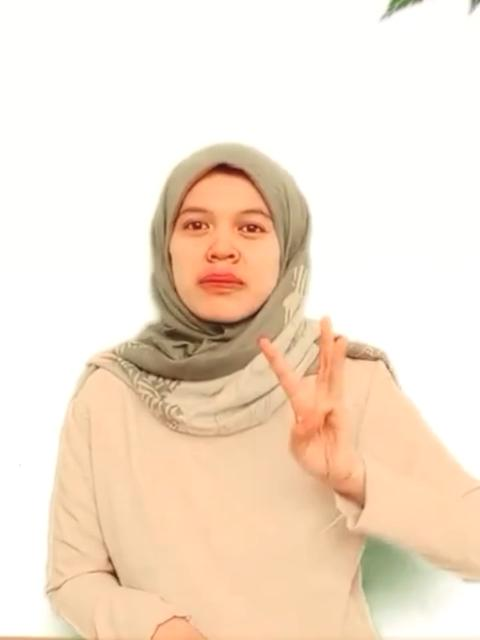W: (256, 314, 362, 502)
